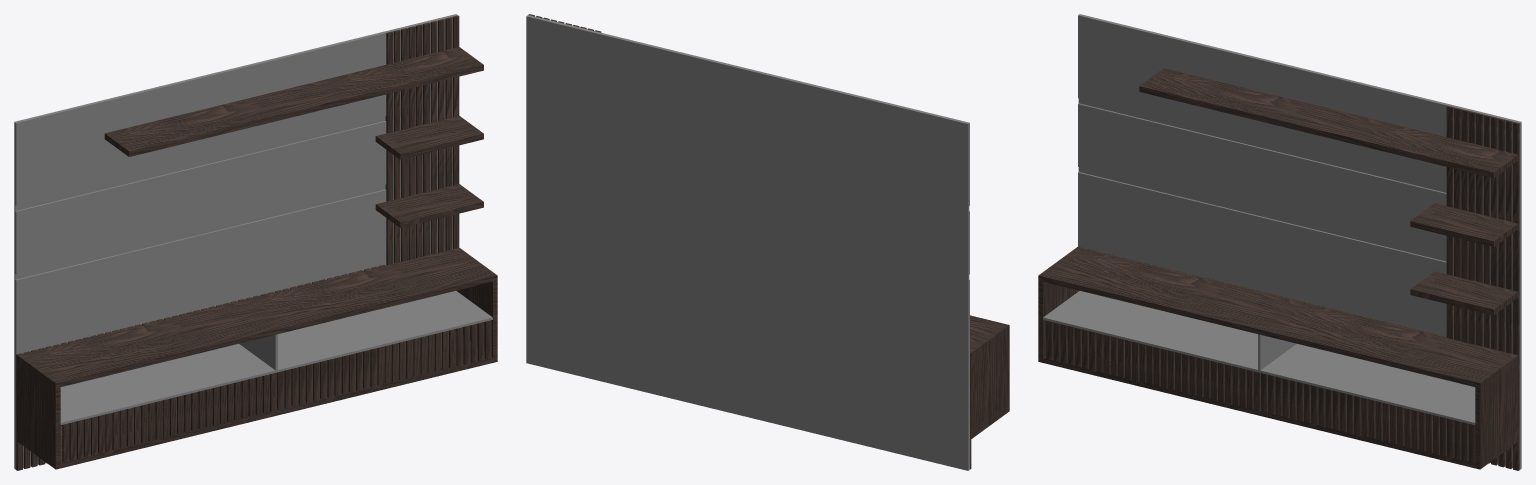
Rendered from painel001.glb.
The picture shows the model from 3 angles, left to right: view 1: azimuth 30°, elevation 25°; view 2: azimuth 150°, elevation 25°; view 3: azimuth 330°, elevation 25°; orthographic projection.
Parts seen in each view (by area): view 1: Componente1\Sólido, Componente4\Sólido, Painel de Televisão\Sólido, Componente5\Sólido, Componente6\Sólido, Componente7\Sólido, Pattern (Padrão)\Componente2\Sólido (9), Pattern (Padrão)\Componente2\Sólido (10), Pattern (Padrão)\Componente2\Sólido (7), Pattern (Padrão)\Componente2\Sólido (6), Pattern (Padrão)\Componente2\Sólido, Pattern (Padrão)\Componente2\Sólido (4) (+4 smaller); view 2: Componente1\Sólido, Componente4\Sólido; view 3: Componente1\Sólido, Componente4\Sólido, Painel de Televisão\Sólido, Componente5\Sólido, Componente6\Sólido, Componente7\Sólido, Pattern (Padrão)\Componente2\Sólido, Pattern (Padrão)\Componente2\Sólido (2), Pattern (Padrão)\Componente2\Sólido (3), Pattern (Padrão)\Componente2\Sólido (8), Pattern (Padrão)\Componente2\Sólido (7), Pattern (Padrão)\Componente2\Sólido (10) (+4 smaller).
Part boxes in pixels (x1=…): Componente1\Sólido: x1=14, y1=14, x2=457, y2=469; Componente4\Sólido: x1=17, y1=247, x2=497, y2=469; Painel de Televisão\Sólido: x1=60, y1=291, x2=492, y2=424; Componente5\Sólido: x1=104, y1=47, x2=483, y2=156; Componente6\Sólido: x1=375, y1=115, x2=483, y2=159; Componente7\Sólido: x1=375, y1=184, x2=483, y2=227; Pattern (Padrão)\Componente2\Sólido (9): x1=393, y1=30, x2=400, y2=343; Pattern (Padrão)\Componente2\Sólido (10): x1=386, y1=31, x2=392, y2=265; Pattern (Padrão)\Componente2\Sólido (7): x1=408, y1=26, x2=415, y2=339; Pattern (Padrão)\Componente2\Sólido (6): x1=415, y1=24, x2=422, y2=257; Pattern (Padrão)\Componente2\Sólido: x1=452, y1=15, x2=459, y2=248; Pattern (Padrão)\Componente2\Sólido (4): x1=430, y1=21, x2=437, y2=334; Componente1\Sólido: x1=526, y1=15, x2=969, y2=470; Componente4\Sólido: x1=970, y1=315, x2=1009, y2=438; Componente1\Sólido: x1=1078, y1=14, x2=1521, y2=469; Componente4\Sólido: x1=1038, y1=247, x2=1518, y2=469; Painel de Televisão\Sólido: x1=1043, y1=291, x2=1475, y2=424; Componente5\Sólido: x1=1139, y1=68, x2=1518, y2=178; Componente6\Sólido: x1=1410, y1=203, x2=1518, y2=246; Componente7\Sólido: x1=1410, y1=271, x2=1518, y2=315; Pattern (Padrão)\Componente2\Sólido: x1=1513, y1=122, x2=1519, y2=470; Pattern (Padrão)\Componente2\Sólido (2): x1=1505, y1=120, x2=1512, y2=468; Pattern (Padrão)\Componente2\Sólido (3): x1=1498, y1=118, x2=1504, y2=467; Pattern (Padrão)\Componente2\Sólido (8): x1=1461, y1=109, x2=1468, y2=342; Pattern (Padrão)\Componente2\Sólido (7): x1=1468, y1=111, x2=1475, y2=344; Pattern (Padrão)\Componente2\Sólido (10): x1=1446, y1=106, x2=1453, y2=418.
Bounding box in the file's own units: 2 × 1.5 × 0.325.
Materials: 2 (1 with a texture image).
